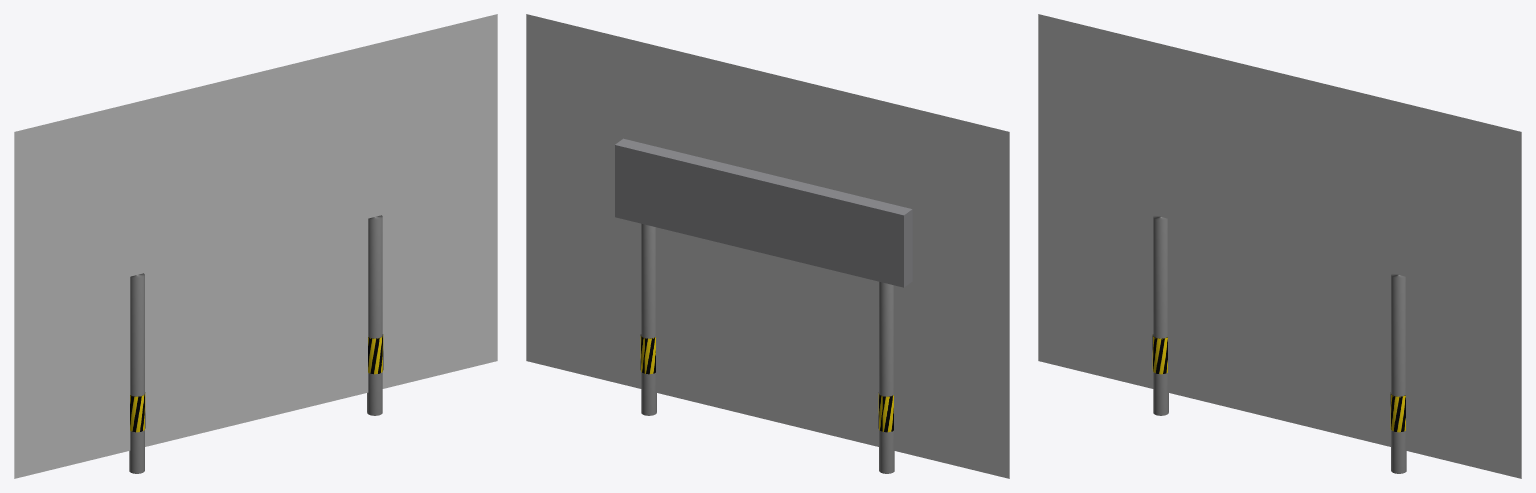
Rendered from erp.fbx.
The picture shows the model from 3 angles, left to right: view 1: azimuth 30°, elevation 25°; view 2: azimuth 150°, elevation 25°; view 3: azimuth 330°, elevation 25°; orthographic projection.
Parts seen in each view (by area): view 1: Right Pole; view 2: Right Pole; view 3: Right Pole.
Boxes of the visible parts, box(x1,y1,x2,y2) form: Right Pole: box(14, 14, 497, 478); Right Pole: box(526, 14, 1009, 478); Right Pole: box(1038, 14, 1521, 478).
Size of the model in its own units: 2844 by 2073 by 131.
